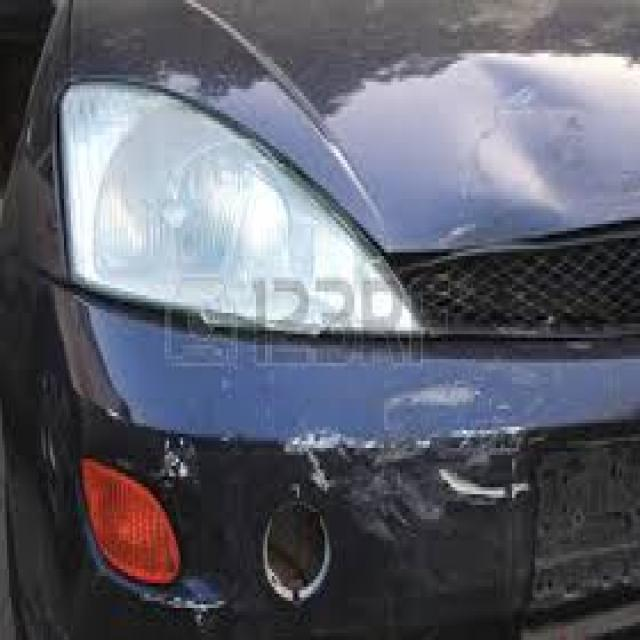minor: (140, 358, 564, 540)
